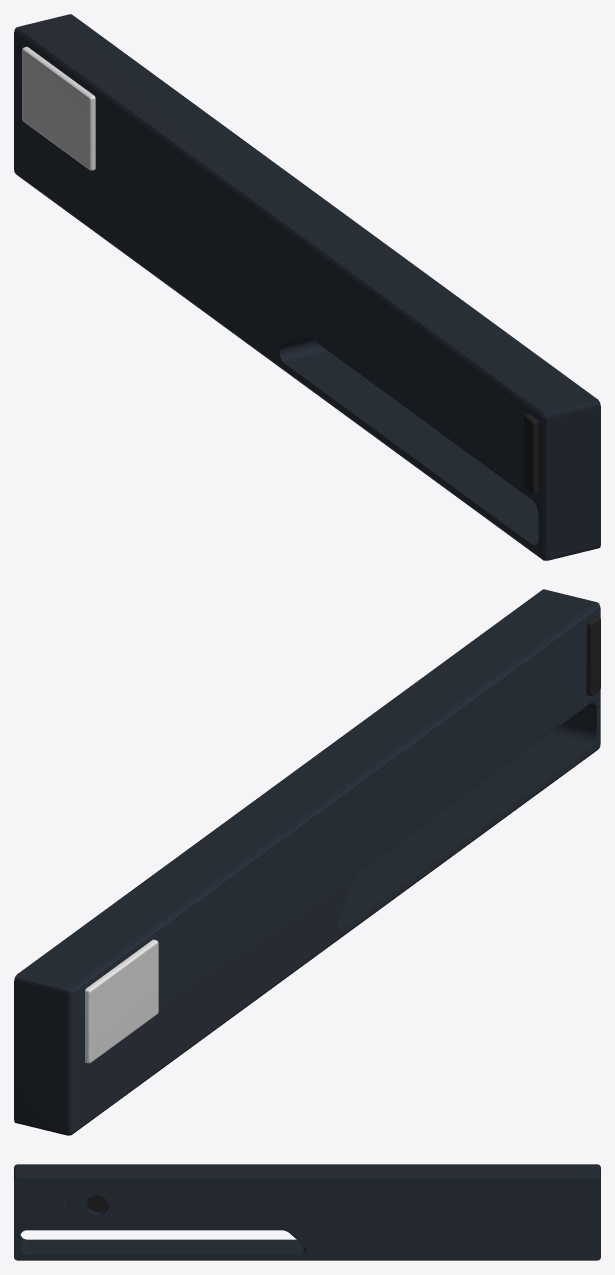
File: realsense.dae
3 renders of one model, top to bottom at view 1: azimuth 30°, elevation 25°; view 2: azimuth 150°, elevation 25°; view 3: azimuth 270°, elevation 25°, orthographic. The views are drawn at different scales.
Parts seen in each view (by area): view 1: pCube13; view 2: pCube13; view 3: pCube13.
Boxes of the visible parts, box(x1,y1,x2,y2) form: pCube13: box(14, 14, 600, 560); pCube13: box(14, 589, 600, 1135); pCube13: box(14, 1164, 600, 1260).
Bounding box in the file's own units: 0.8768 × 13 × 2.
1 material, 1 textured.
